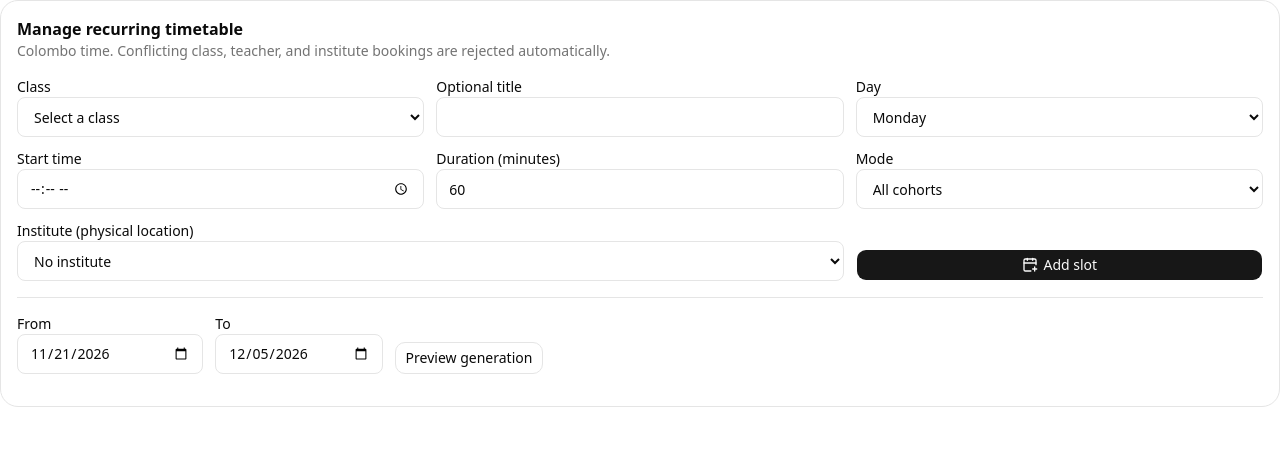
Test: TimetableManager › shows a conflict response inline and keeps the form available
Select "Physics (2026)" in the dropdown labelled "Class" at (221, 117), box left=17, top=97, right=424, bottom=137
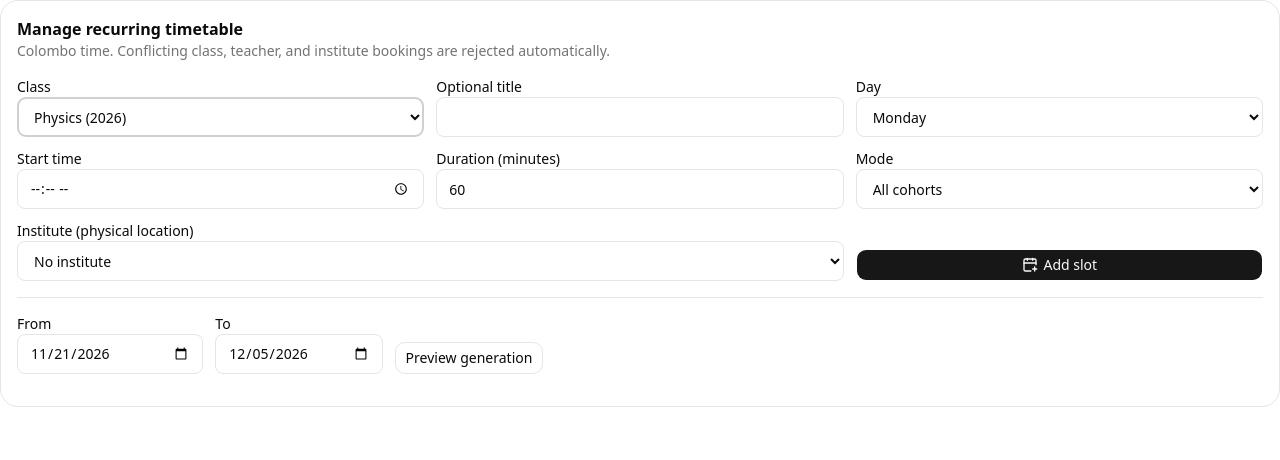
Type "10:00" into the time field labelled "Start time" at (221, 189), box left=17, top=169, right=424, bottom=209
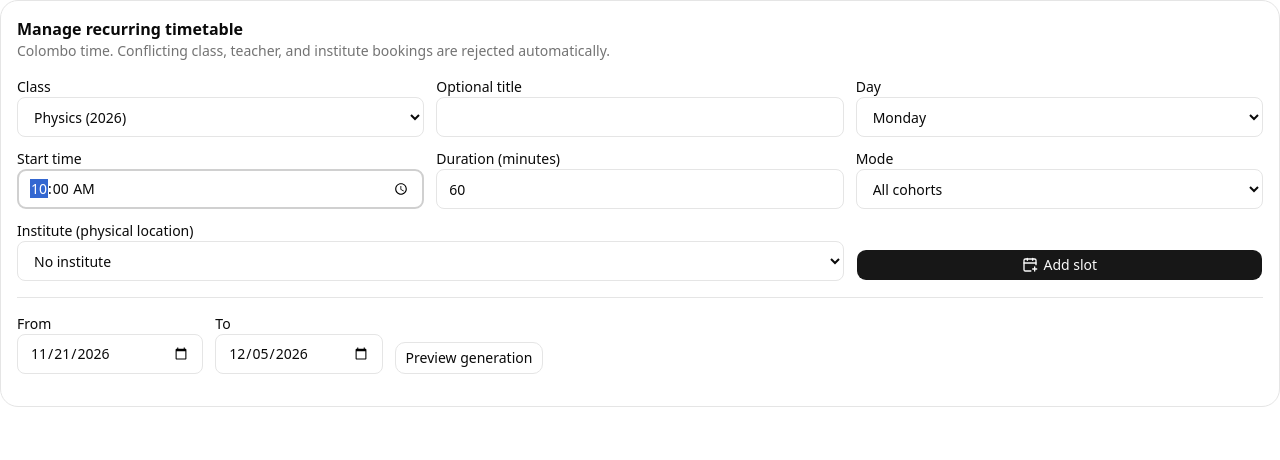
Click the button "Add slot" at (1059, 265), box left=856, top=249, right=1263, bottom=281
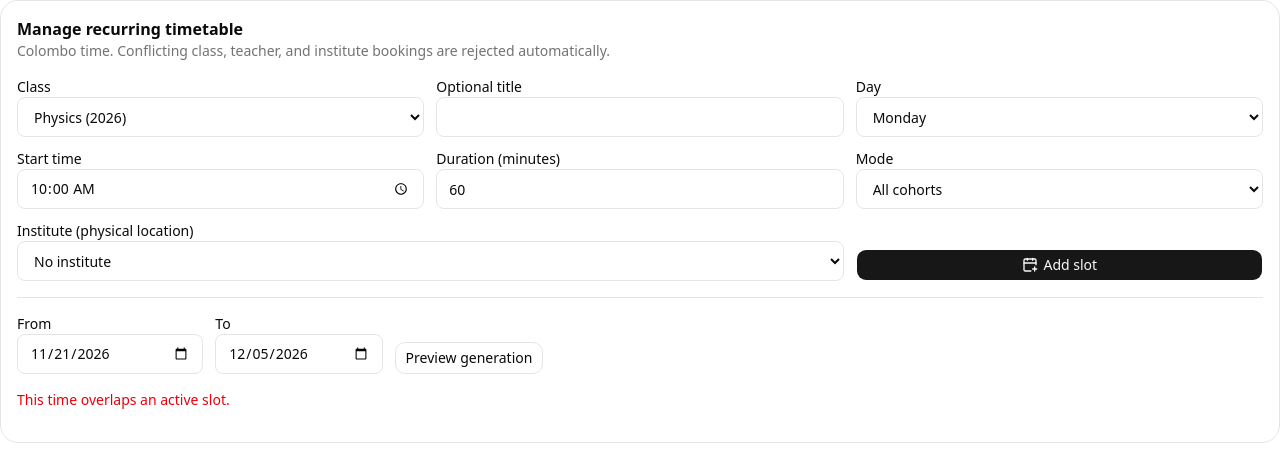
Now the message reads "This time overlaps an active slot.", box left=17, top=390, right=230, bottom=409
